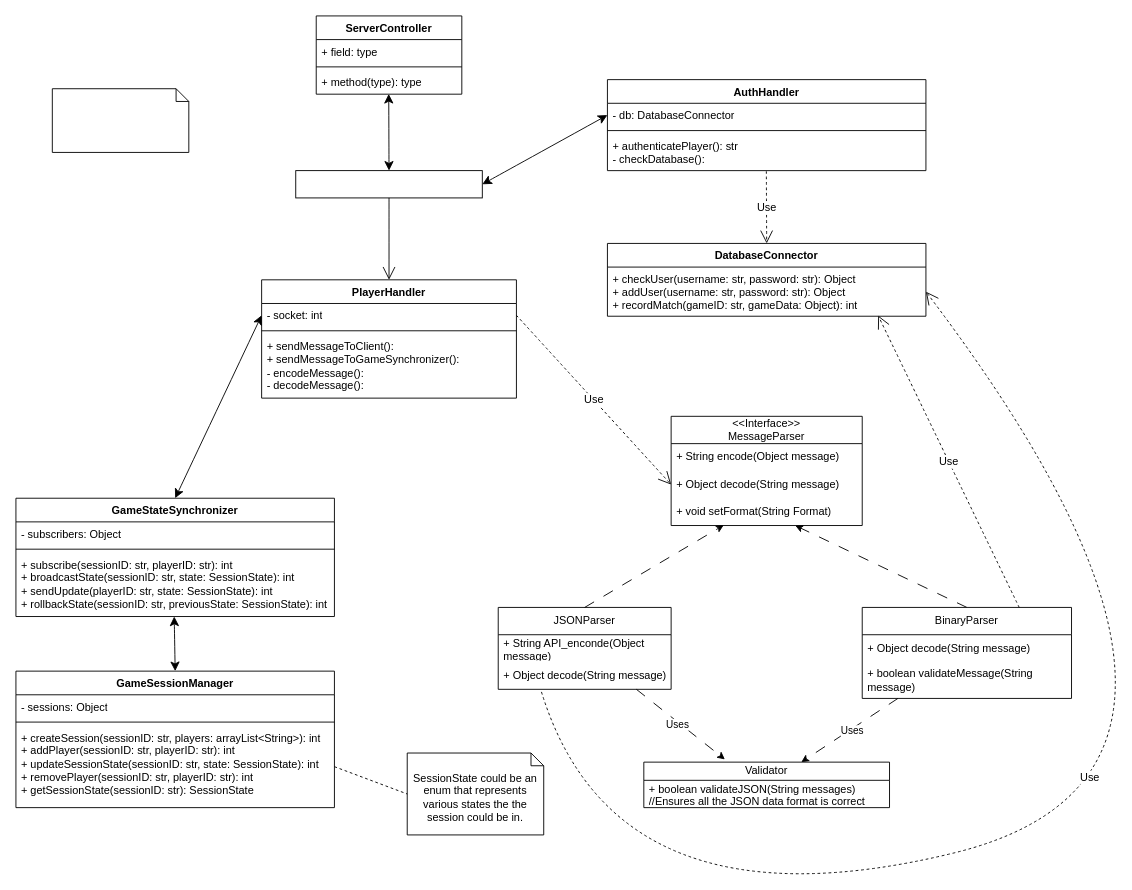
This 1132x890 diagram has some shape labels left out. Here are the shapes that lost their labels. From the top down, the centre of each, then its label:
point 120,120: Many methods return an int value to signify if the method had an error.
point 388,184: NetworkManager
